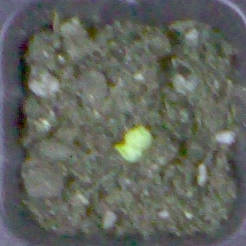pepper seed: (39, 59, 184, 223), (47, 50, 201, 200)
